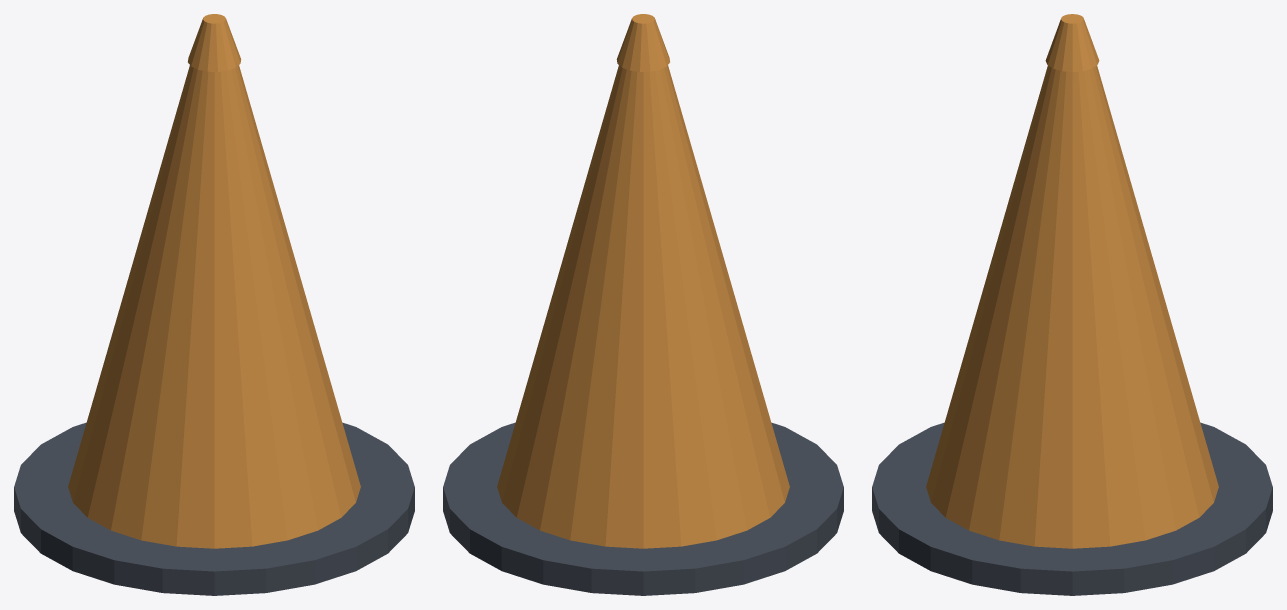
The model's file is traffic_cone.glb.
3 renders of one model, left to right at view 1: azimuth 30°, elevation 25°; view 2: azimuth 150°, elevation 25°; view 3: azimuth 270°, elevation 25°, orthographic.
Parts seen in each view (by area): view 1: cone_body, cone_base, cone_top; view 2: cone_body, cone_base, cone_top; view 3: cone_body, cone_base, cone_top.
Boxes of the visible parts, bbox=[...] form: cone_body: bbox=[68, 65, 360, 548]; cone_base: bbox=[14, 422, 414, 595]; cone_top: bbox=[188, 14, 241, 71]; cone_body: bbox=[497, 65, 789, 548]; cone_base: bbox=[443, 422, 843, 595]; cone_top: bbox=[616, 14, 669, 71]; cone_body: bbox=[926, 65, 1218, 548]; cone_base: bbox=[872, 422, 1272, 595]; cone_top: bbox=[1045, 14, 1099, 71].
Size of the model in its own units: 0.52 by 0.705 by 0.52.
